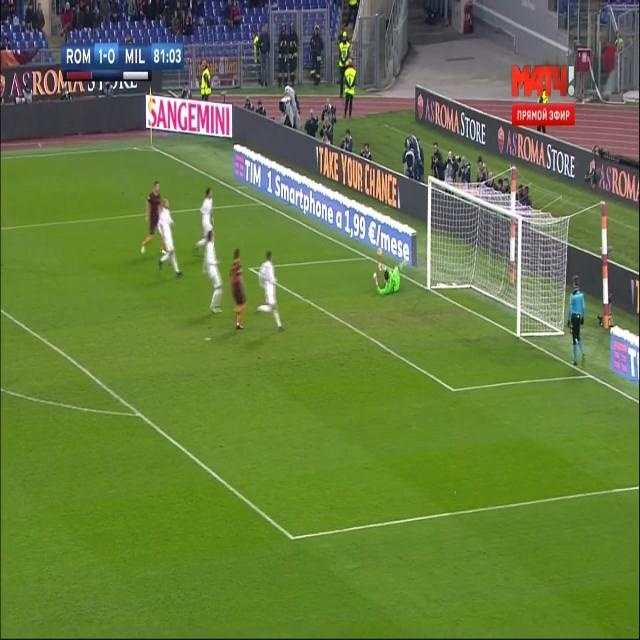Ball: (376, 246, 383, 259)
Goalkeeper: (373, 256, 410, 299)
Player: (253, 249, 284, 335), (157, 197, 182, 280), (138, 176, 162, 260), (228, 244, 250, 332), (203, 228, 224, 319), (192, 186, 215, 257)
